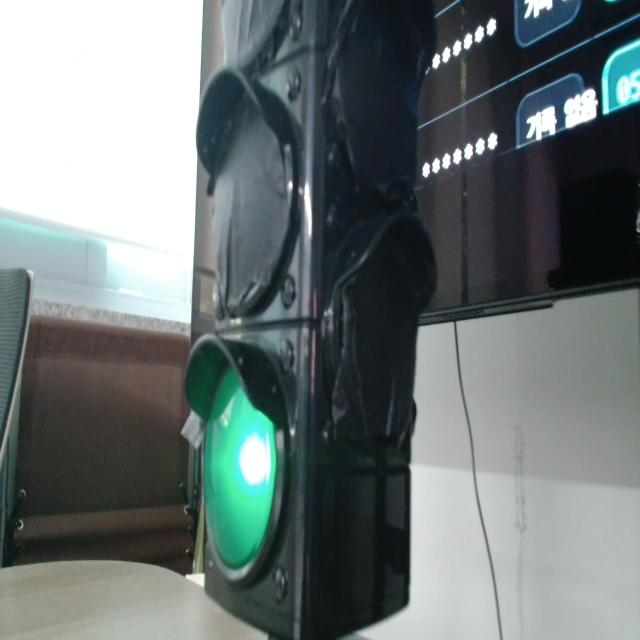green_light: (204, 368, 276, 568)
